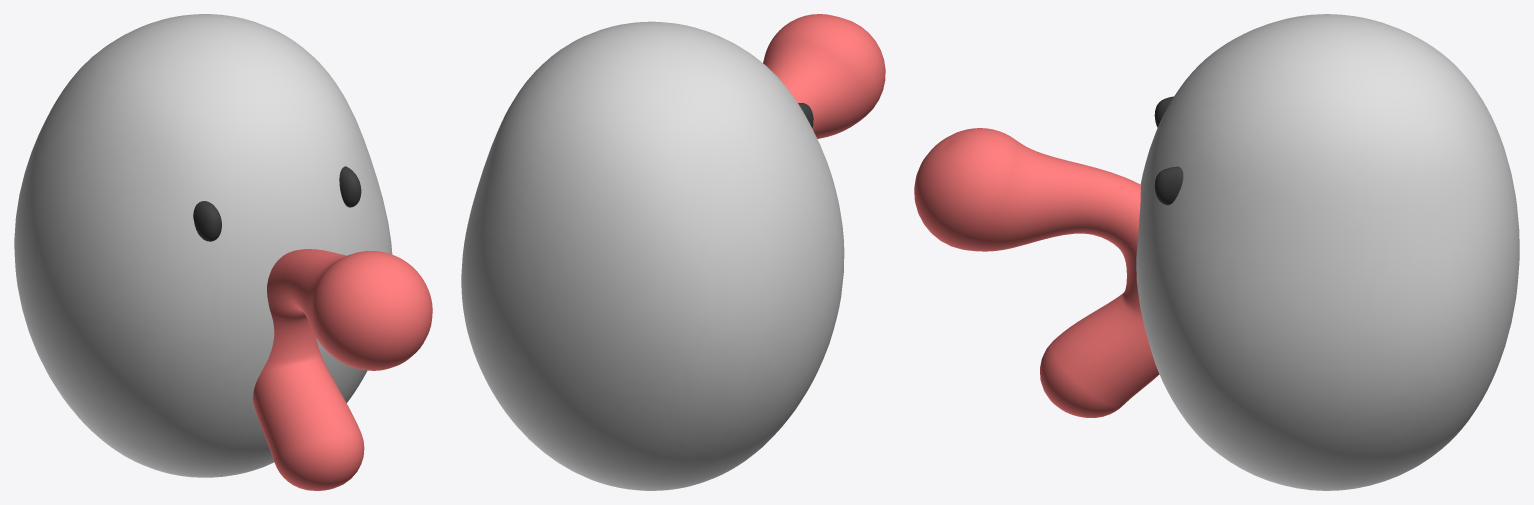
3 renders of one model, left to right at view 1: azimuth 30°, elevation 25°; view 2: azimuth 150°, elevation 25°; view 3: azimuth 270°, elevation 25°, orthographic. The views are drawn at different scales.
Visible parts, largest first — view 1: 019_hachiemon_kantere_L; view 2: 019_hachiemon_kantere_L; view 3: 019_hachiemon_kantere_L.
Boxes of the visible parts, bbox=[...] form: 019_hachiemon_kantere_L: bbox=[14, 14, 432, 490]; 019_hachiemon_kantere_L: bbox=[461, 14, 885, 490]; 019_hachiemon_kantere_L: bbox=[914, 14, 1519, 490].
Size of the model in its own units: 0.1553 by 0.1984 by 0.2441.
